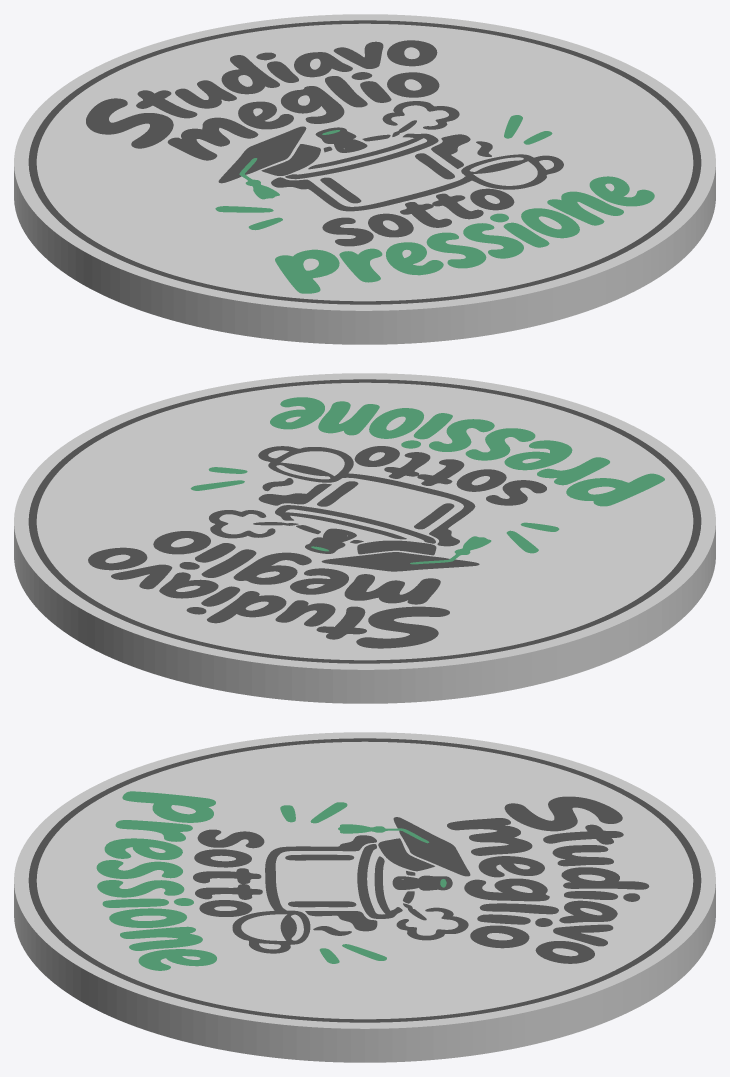
Rendered from sottobicchiere-sotto-pressione.glb.
The picture shows the model from 3 angles, top to bottom: view 1: azimuth 30°, elevation 25°; view 2: azimuth 150°, elevation 25°; view 3: azimuth 270°, elevation 25°; orthographic projection.
Parts seen in each view (by area): view 1: coaster_base, coaster_ink, coaster_accent; view 2: coaster_base, coaster_ink, coaster_accent; view 3: coaster_base, coaster_ink, coaster_accent.
Boxes of the visible parts, bbox=[...] form: coaster_base: bbox=[14, 14, 715, 344]; coaster_ink: bbox=[28, 20, 701, 304]; coaster_accent: bbox=[215, 115, 654, 293]; coaster_base: bbox=[14, 373, 715, 703]; coaster_ink: bbox=[28, 379, 701, 663]; coaster_accent: bbox=[190, 397, 664, 564]; coaster_base: bbox=[14, 732, 715, 1062]; coaster_ink: bbox=[28, 738, 701, 1022]; coaster_accent: bbox=[96, 791, 446, 970].
Bounding box in the file's own units: 0.075 × 0.004 × 0.075.
